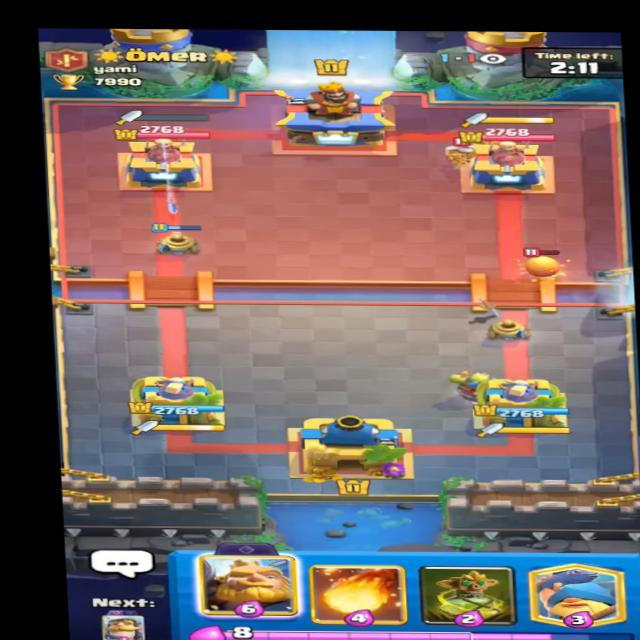barbarian-hut: (428, 132, 494, 170)
phoenix-egg: (511, 243, 583, 283)
